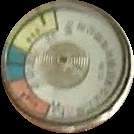green: (6, 46, 30, 81)
red: (8, 79, 51, 120)
yellow: (14, 11, 60, 51)
